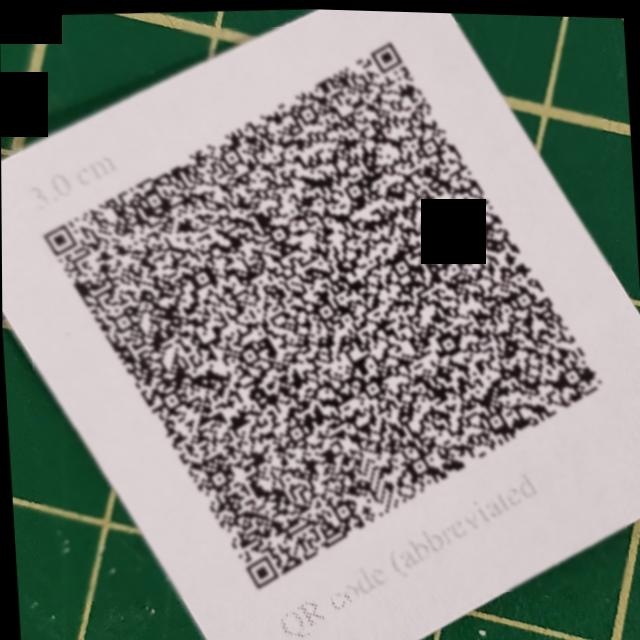QR_CODE: (13, 2, 630, 616)
